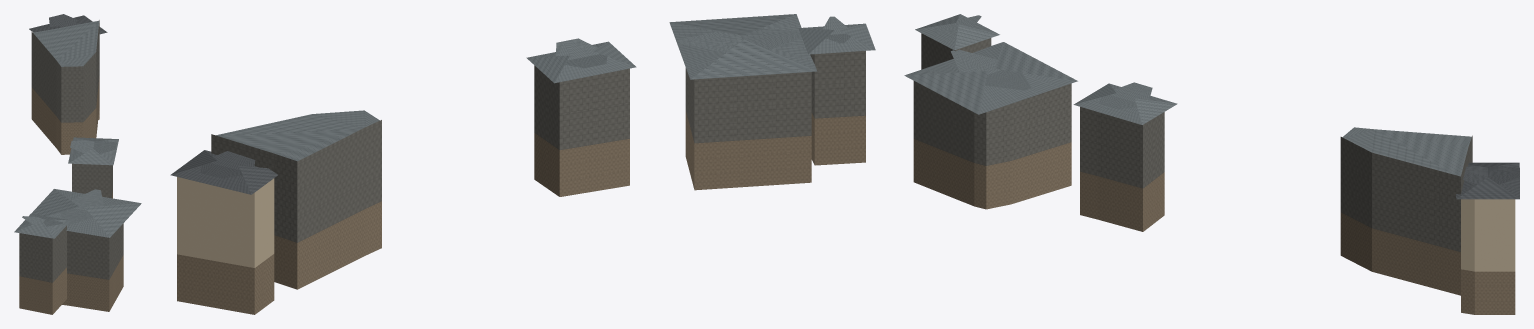
Rendered from bld_c38_-12_538.gltf.
3 renders of one model, left to right at view 1: azimuth 30°, elevation 25°; view 2: azimuth 150°, elevation 25°; view 3: azimuth 270°, elevation 25°, orthographic. The views are drawn at different scales.
Visible parts, largest first — view 1: bld_c38_-12_538; view 2: bld_c38_-12_538; view 3: bld_c38_-12_538.
Part boxes in pixels (<box>): bld_c38_-12_538: <box>14,14,141,314</box>; bld_c38_-12_538: <box>170,14,875,314</box>; bld_c38_-12_538: <box>904,14,1519,314</box>.
Size of the model in its own units: 46.01 by 15.98 by 65.5.
Materials: 6 (6 with a texture image).
